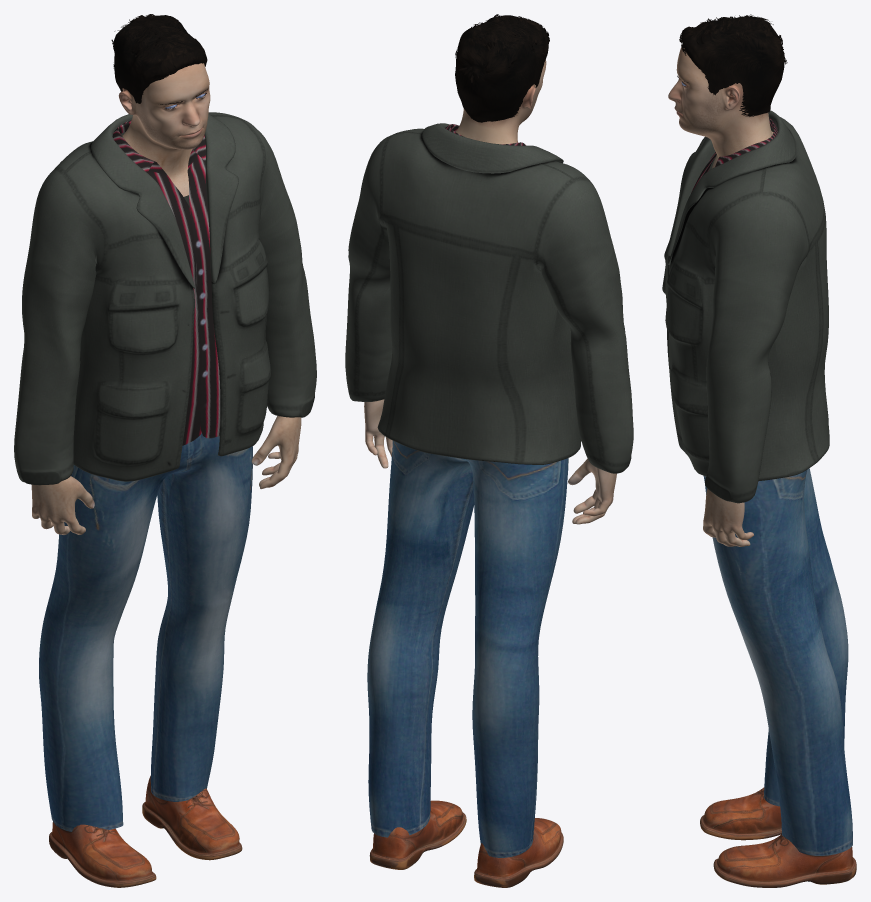
Rendered from daniel-source.glb.
3 renders of one model, left to right at view 1: azimuth 30°, elevation 25°; view 2: azimuth 150°, elevation 25°; view 3: azimuth 270°, elevation 25°, orthographic. The views are drawn at different scales.
Visible parts, largest first — view 1: man_body.male_casualsuit05, man_body, man_body.shoes01, man_body.short01; view 2: man_body.male_casualsuit05, man_body.short01, man_body.shoes01, man_body; view 3: man_body.male_casualsuit05, man_body.shoes01, man_body, man_body.short01.
Part boxes in pixels (<box>): man_body.male_casualsuit05: <box>14,112,316,831</box>; man_body: <box>31,63,301,534</box>; man_body.shoes01: <box>49,775,242,887</box>; man_body.short01: <box>111,14,207,103</box>; man_body.male_casualsuit05: <box>345,123,633,857</box>; man_body.short01: <box>455,14,549,122</box>; man_body.shoes01: <box>369,800,563,887</box>; man_body: <box>364,59,616,524</box>; man_body.male_casualsuit05: <box>662,110,852,855</box>; man_body.shoes01: <box>700,787,856,887</box>; man_body: <box>668,47,773,546</box>; man_body.short01: <box>679,14,787,116</box>.
Bounding box in the file's own units: 0.6591 × 1.79 × 0.3814.
Materials: 9 (9 with a texture image).
